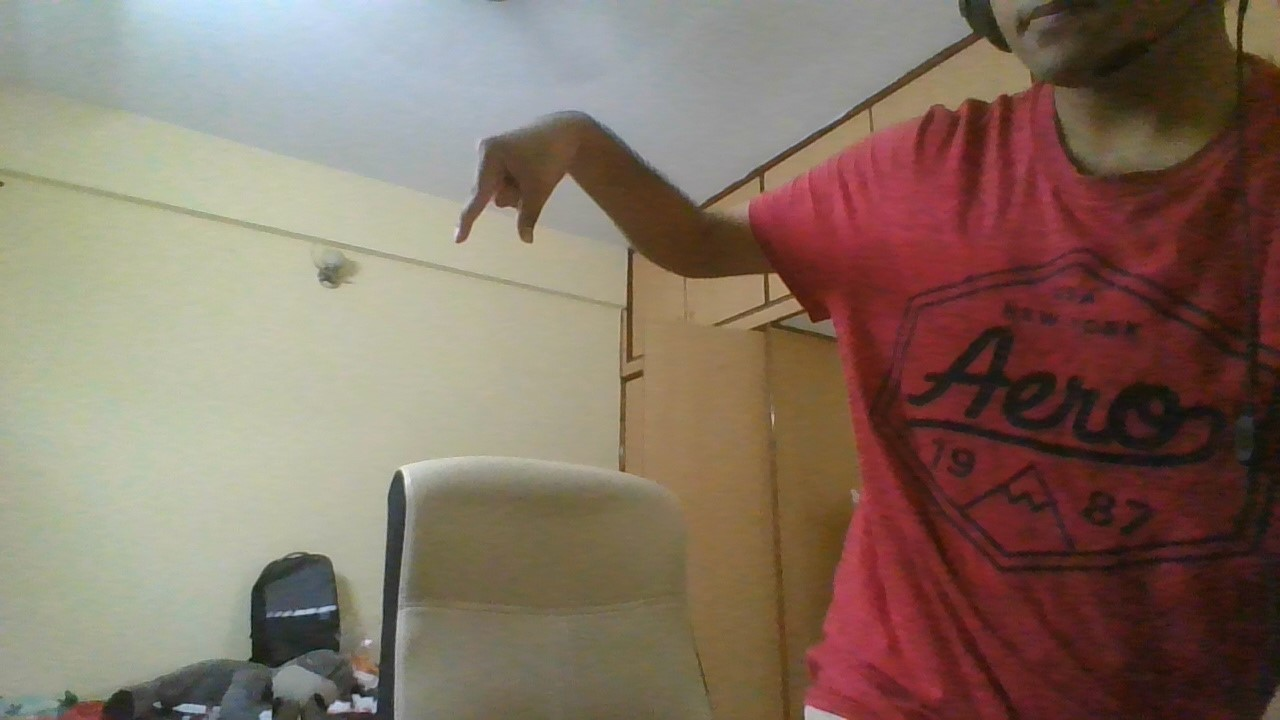q: (449, 107, 592, 250)
